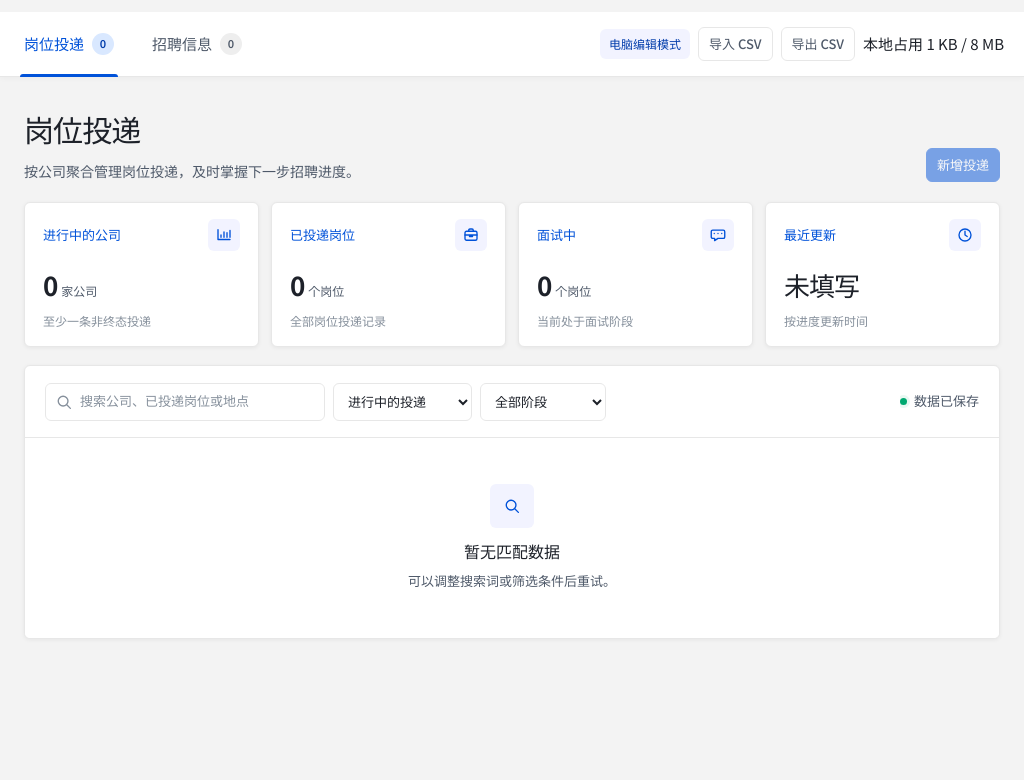
Scenario: editable extension dashboard › exports a downloadable CSV from the editable header
Expected: the text "电脑编辑模式" is shown, x1=600 y1=29 x2=690 y2=59
Click the button "导出 CSV" at [818, 44], box x1=780 y1=27 x2=855 y2=61
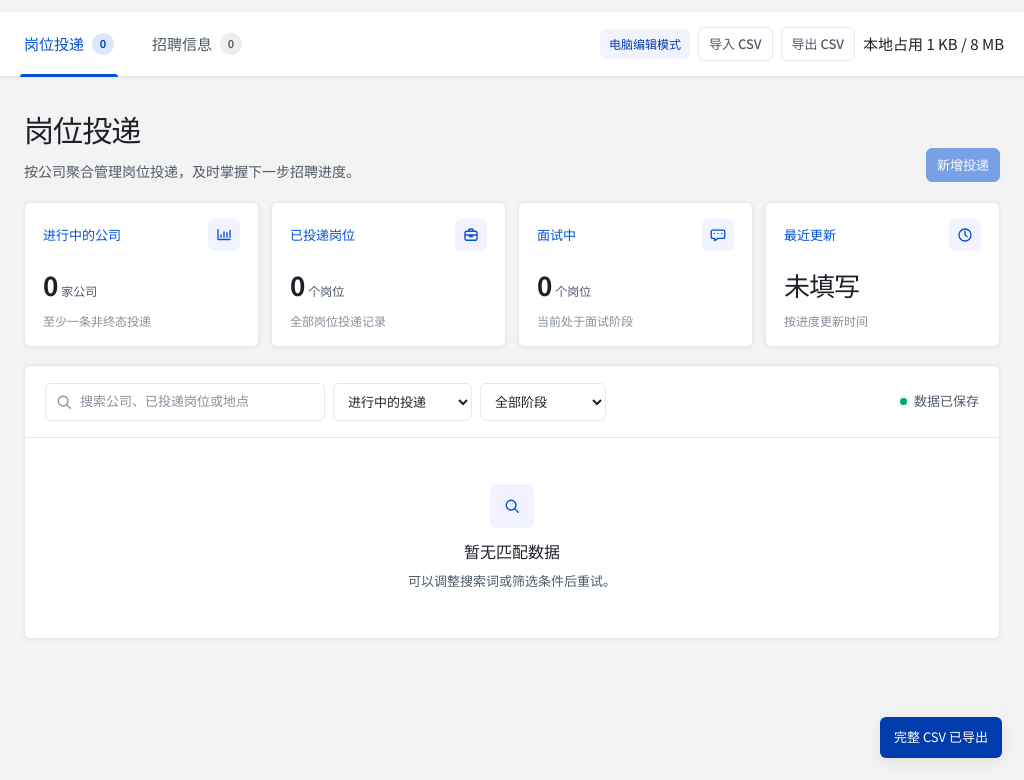
Expected: the text "完整 CSV 已导出" is shown, x1=880 y1=717 x2=1002 y2=758
